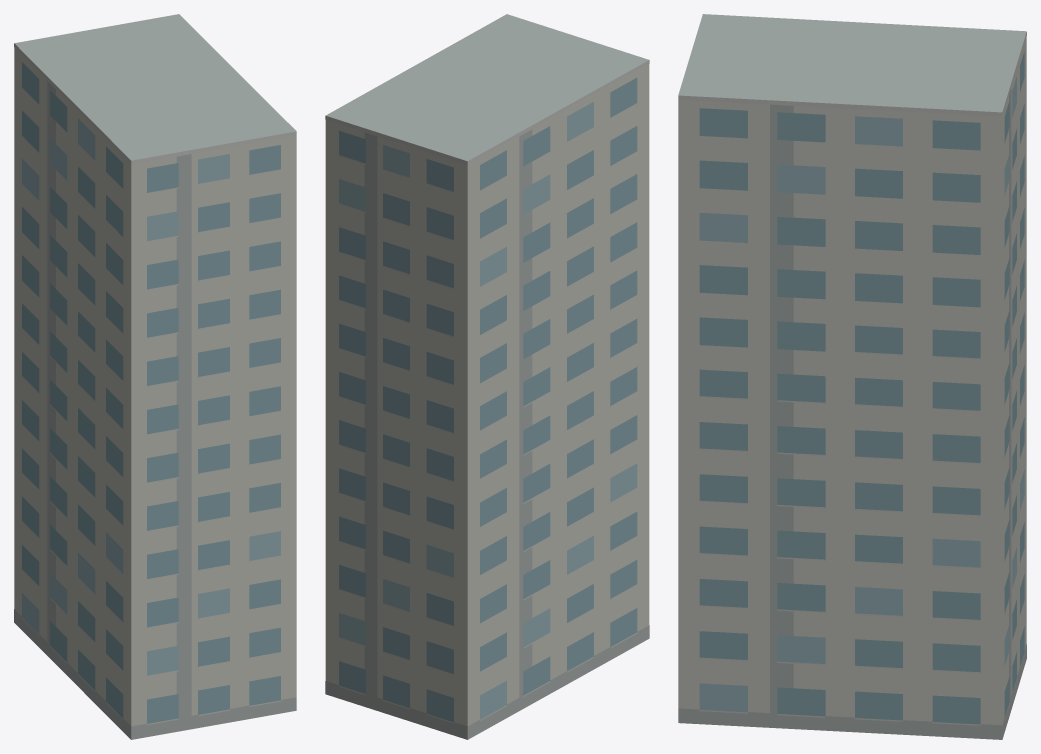
The model's file is residential-94b86b22-9095-4258-8d1c-b44f0969d867.glb.
3 views of the same model, side by side, from view 1: azimuth 30°, elevation 25°; view 2: azimuth 150°, elevation 25°; view 3: azimuth 270°, elevation 25° (orthographic). The views are drawn at different scales.
Parts seen in each view (by area): view 1: residential-94b86b22-9095-4258-8d1c-b44f0969d867.tmp; view 2: residential-94b86b22-9095-4258-8d1c-b44f0969d867.tmp; view 3: residential-94b86b22-9095-4258-8d1c-b44f0969d867.tmp.
Part boxes in pixels (bbox=[...]): residential-94b86b22-9095-4258-8d1c-b44f0969d867.tmp: bbox=[14, 14, 296, 739]; residential-94b86b22-9095-4258-8d1c-b44f0969d867.tmp: bbox=[325, 14, 649, 739]; residential-94b86b22-9095-4258-8d1c-b44f0969d867.tmp: bbox=[678, 14, 1026, 739].
Size of the model in its own units: 11.78 by 35 by 17.63.
